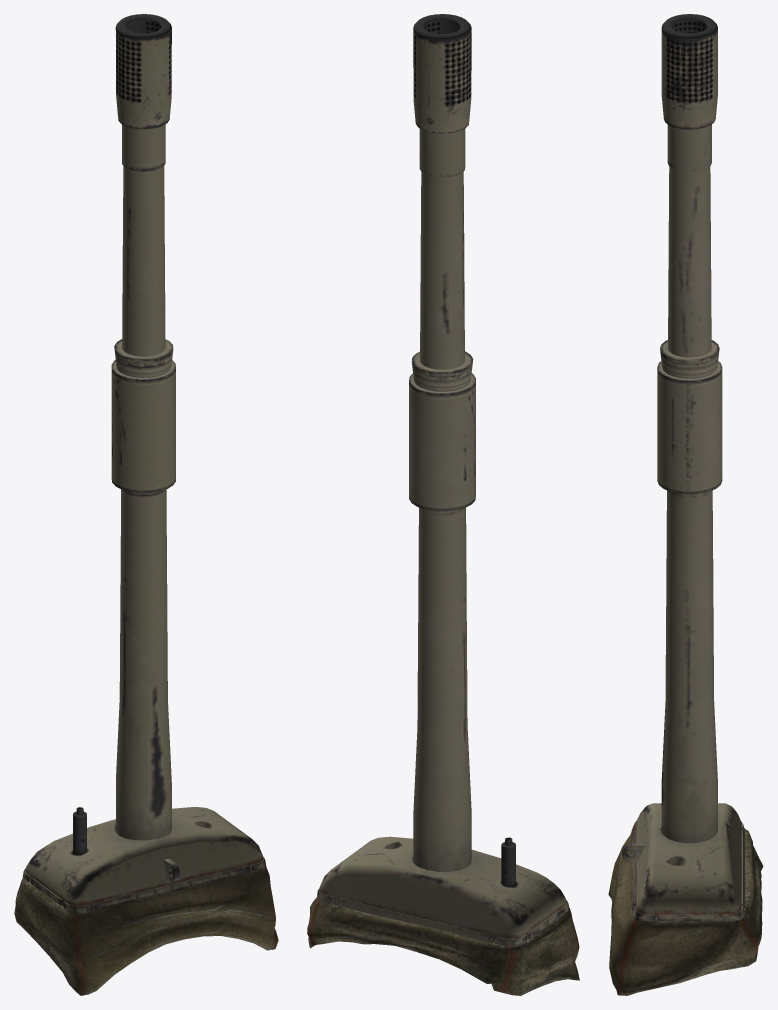
Rendered from Gun_01.glb.
3 renders of one model, left to right at view 1: azimuth 30°, elevation 25°; view 2: azimuth 150°, elevation 25°; view 3: azimuth 270°, elevation 25°, orthographic. The views are drawn at different scales.
Visible parts, largest first — view 1: set_0_group_0; view 2: set_0_group_0; view 3: set_0_group_0.
Boxes of the visible parts, x1,y1,x2,y2 form: set_0_group_0: [14, 14, 278, 995]; set_0_group_0: [307, 14, 579, 995]; set_0_group_0: [608, 14, 763, 995].
Size of the model in its own units: 0.855 by 3.45 by 0.525.
Materials: 1 (1 with a texture image).
